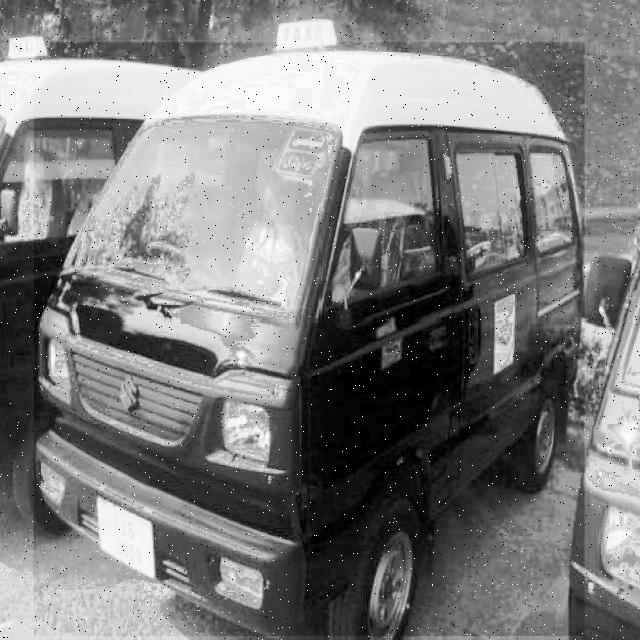LCV: (33, 42, 586, 638)
